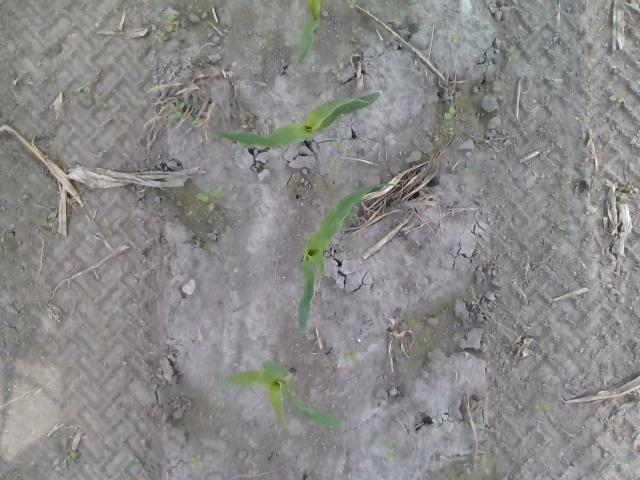Maize: (296, 181, 399, 334), (207, 92, 381, 151), (224, 359, 346, 432), (294, 0, 320, 70)
Weeds: (194, 184, 228, 214), (154, 12, 174, 42), (332, 138, 348, 168), (476, 451, 494, 476), (382, 437, 396, 466), (205, 382, 225, 400), (165, 103, 183, 122), (342, 349, 358, 370), (189, 457, 212, 471), (78, 89, 94, 107), (538, 398, 552, 418), (606, 92, 626, 105), (329, 62, 344, 78), (38, 218, 55, 232), (463, 160, 478, 175), (507, 47, 523, 60), (336, 0, 359, 9), (616, 188, 629, 203), (559, 176, 571, 190), (444, 105, 456, 119), (448, 30, 462, 42), (66, 450, 80, 462), (558, 215, 568, 231), (238, 110, 253, 120), (404, 318, 417, 329), (134, 456, 144, 470), (270, 254, 283, 264), (272, 473, 289, 480), (322, 359, 332, 369), (198, 366, 209, 374), (146, 248, 154, 258)
